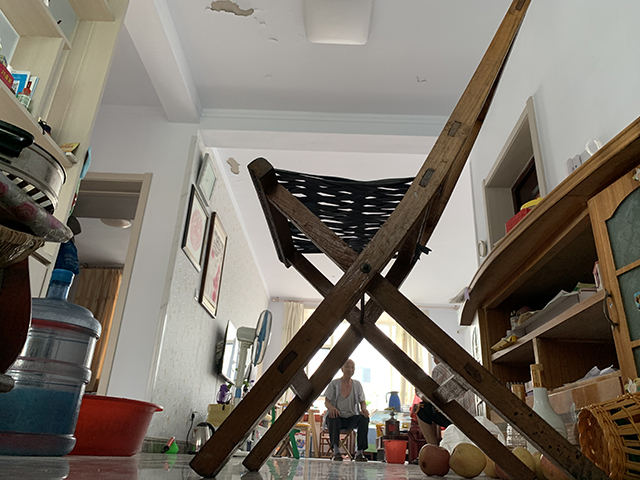cabinet: (458, 112, 640, 440)
stool: (184, 1, 606, 480)
